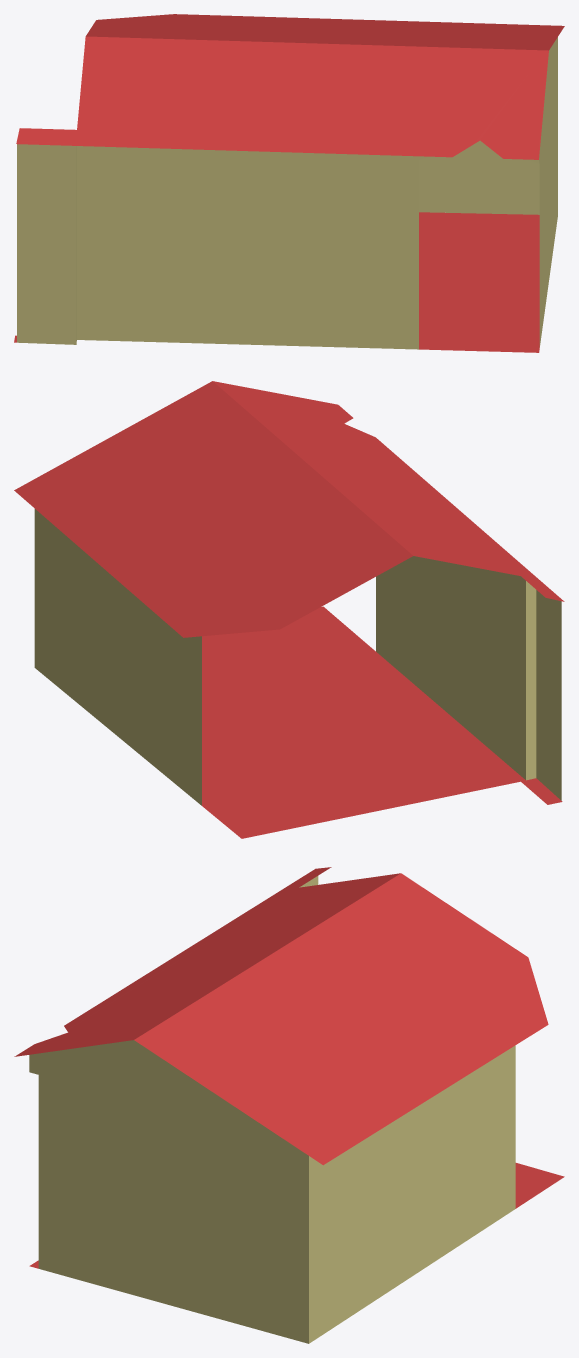
3 renders of one model, top to bottom at view 1: azimuth 30°, elevation 25°; view 2: azimuth 150°, elevation 25°; view 3: azimuth 270°, elevation 25°, orthographic. The views are drawn at different scales.
Parts seen in each view (by area): view 1: group_5, group_3, group_6, group_4; view 2: group_3, group_5, group_6, group_4; view 3: group_5, group_3, group_4, group_6.
Boxes of the visible parts, x1,y1,x2,y2 form: group_5: [17, 37, 557, 349]; group_3: [16, 14, 564, 159]; group_6: [14, 212, 539, 352]; group_4: [16, 14, 563, 159]; group_3: [14, 381, 564, 637]; group_5: [34, 509, 561, 805]; group_6: [202, 606, 562, 838]; group_4: [14, 403, 560, 637]; group_5: [29, 876, 515, 1343]; group_3: [14, 867, 548, 1165]; group_4: [16, 869, 547, 1164]; group_6: [29, 1163, 564, 1268].
Bounding box in the file's own units: 25.5 × 21.46 × 11.03.
